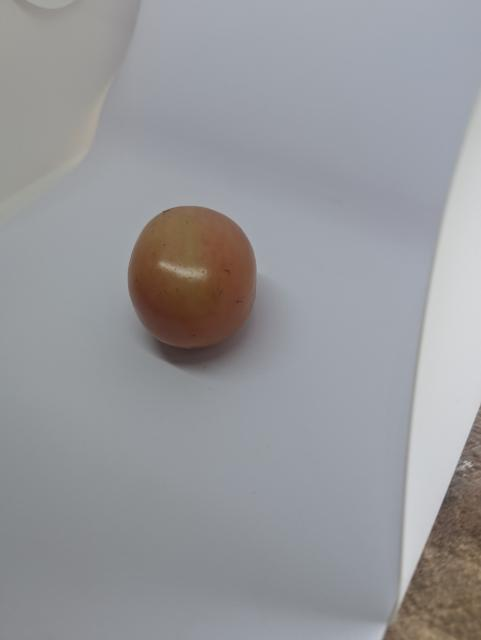turning: (111, 202, 270, 358)
